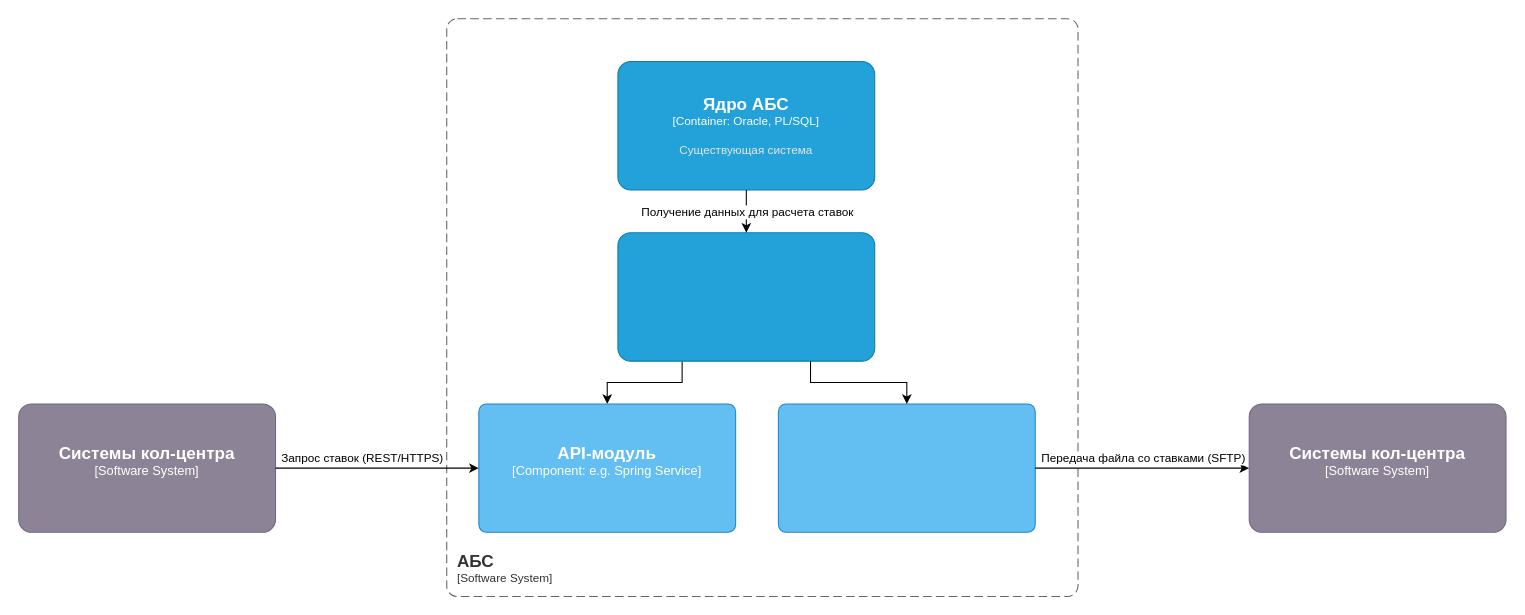
Image size: 1525x615. Some labels were removed from this diagram. The shapes that lost their labels are listed below. From the top down, each one's centre as x and y in pixels, then its label:
At pixel 746 296: "Сервис Ставок [Container: Java, Spring Boot]".
At pixel 906 467: "Модуль выгрузки файлов [Component: e.g. Spring Service]".
